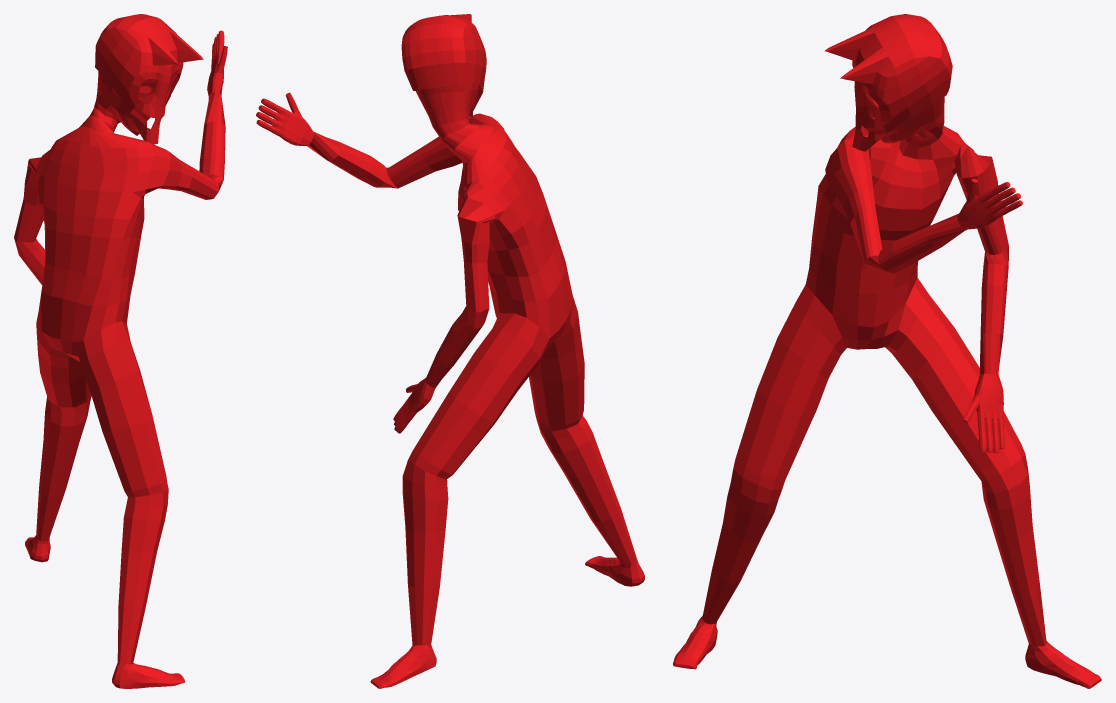
File: activaAlarma_000115.obj
3 views of the same model, side by side, from view 1: azimuth 30°, elevation 25°; view 2: azimuth 150°, elevation 25°; view 3: azimuth 270°, elevation 25° (orthographic). The views are drawn at different scales.
Parts seen in each view (by area): view 1: Plane.002_Plane.001; view 2: Plane.002_Plane.001; view 3: Plane.002_Plane.001.
Part boxes in pixels (bbox=[...]): Plane.002_Plane.001: bbox=[14, 14, 227, 688]; Plane.002_Plane.001: bbox=[256, 14, 644, 688]; Plane.002_Plane.001: bbox=[673, 14, 1101, 688].
Bounding box in the file's own units: 2.83 × 6.59 × 3.77.
